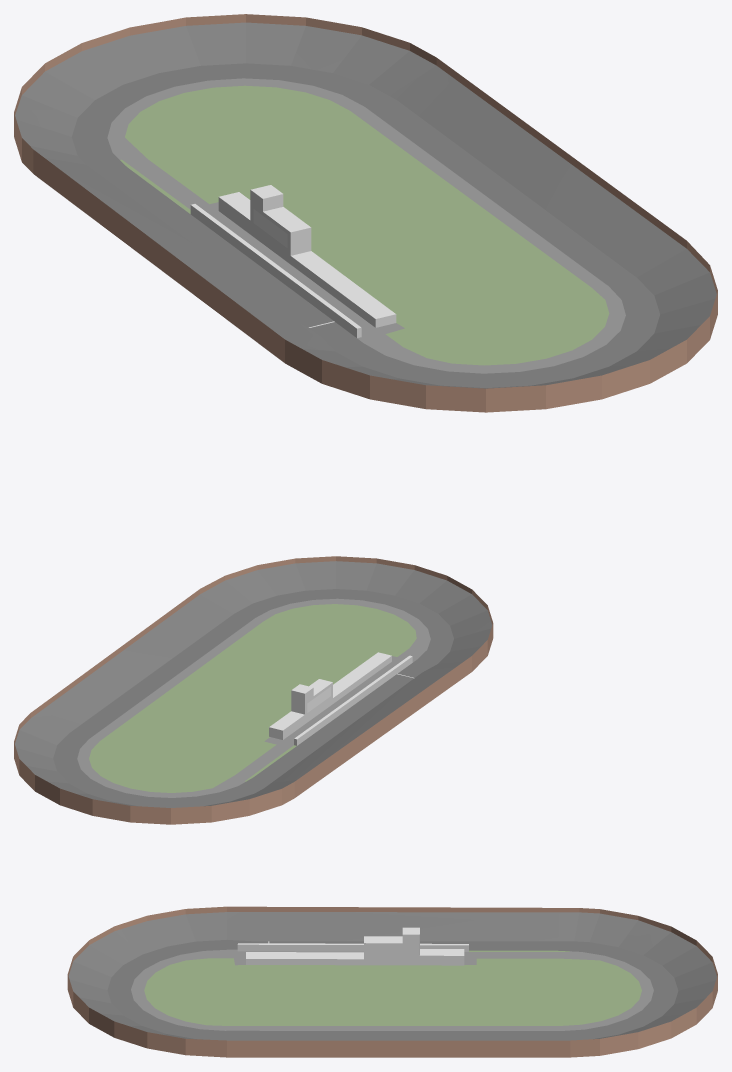
The model's file is map_indy.glb.
3 views of the same model, one above another, from view 1: azimuth 30°, elevation 25°; view 2: azimuth 150°, elevation 25°; view 3: azimuth 270°, elevation 25° (orthographic). The views are drawn at different scales.
Visible parts, largest first — view 1: Geom3D (×5); view 2: Geom3D (×5); view 3: Geom3D (×5).
Boxes of the visible parts, x1,y1,x2,y2 form: Geom3D (×5): [14, 14, 717, 412]; Geom3D (×5): [14, 556, 493, 824]; Geom3D (×5): [67, 906, 717, 1057].
Bounding box in the file's own units: 1153 × 81.23 × 1680.
